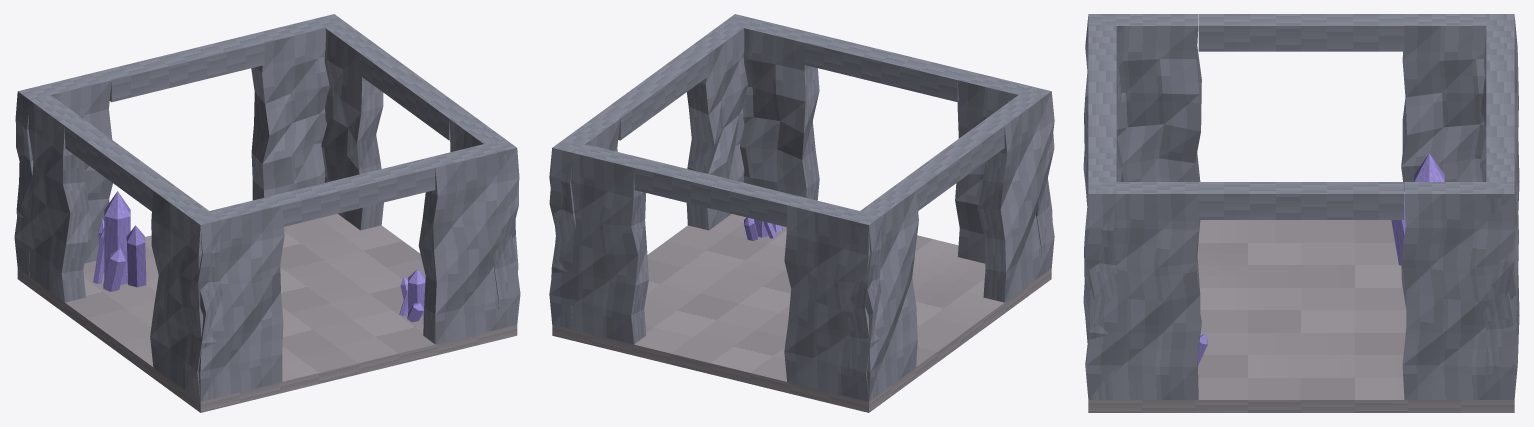
The model's file is cave-and-crystal-networks-crystal-chamber-3251e061.glb.
The picture shows the model from 3 angles, left to right: view 1: azimuth 30°, elevation 25°; view 2: azimuth 150°, elevation 25°; view 3: azimuth 270°, elevation 25°; orthographic projection. The views are drawn at different scales.
Parts seen in each view (by area): view 1: crystal-chamber; view 2: crystal-chamber; view 3: crystal-chamber.
Part boxes in pixels (x1,y1,x2,y2): crystal-chamber: (14,14,520,412); crystal-chamber: (549,14,1054,412); crystal-chamber: (1083,14,1519,412).
Size of the model in its own units: 6.14 by 3.4 by 6.14.
3 materials, 3 textured.
